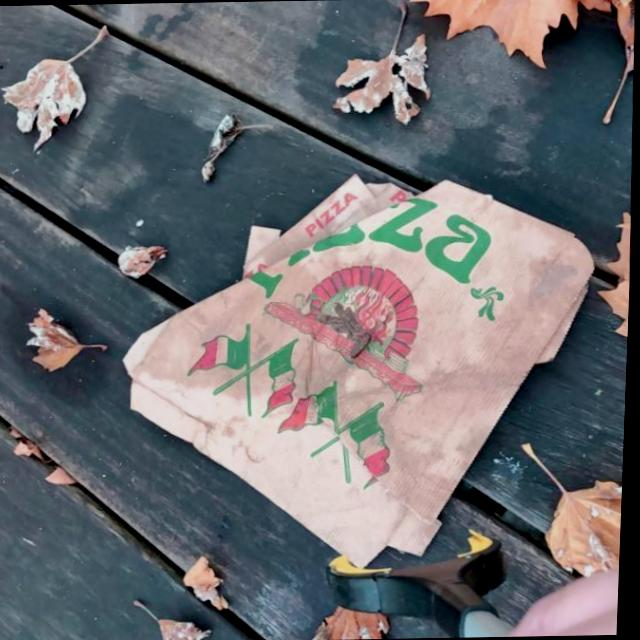Paper: (112, 165, 605, 575)
